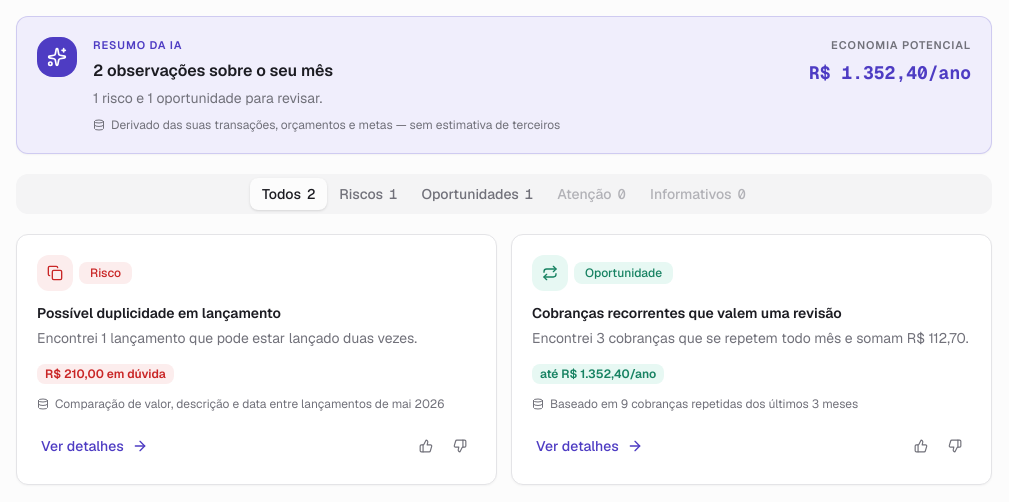
InsightsScreen › filters by severity and deep-links the filter
The width and height of the screenshot is (1009, 502).
Click the tab "Riscos 1" at (368, 194), box top-left (327, 178), bottom-right (409, 210)
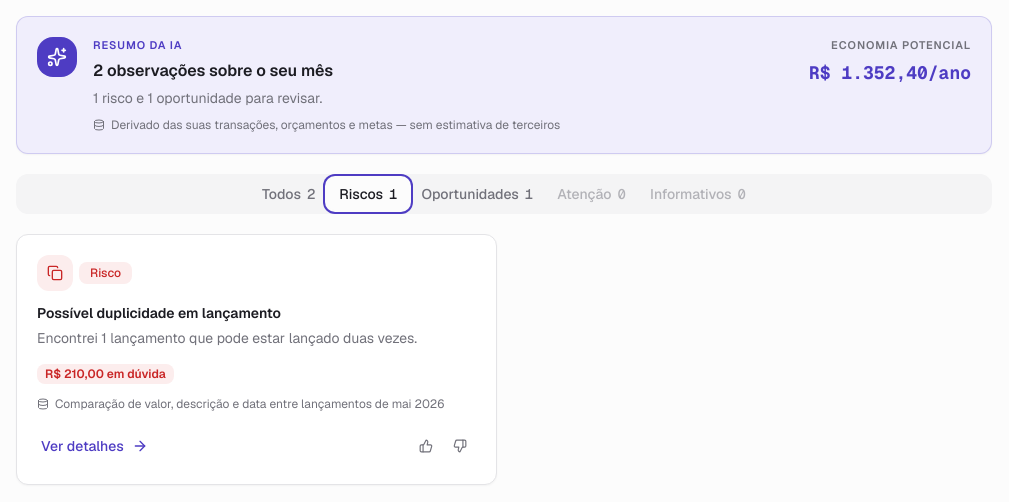
Expected: the heading "Possível duplicidade em lançamento" is shown, top-left (37, 304), bottom-right (281, 322)
Expected: the heading "Cobranças recorrentes que valem uma revisão" is gone
